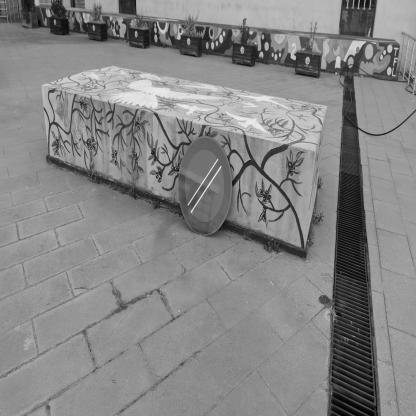No Waiting: (179, 137, 233, 237)
